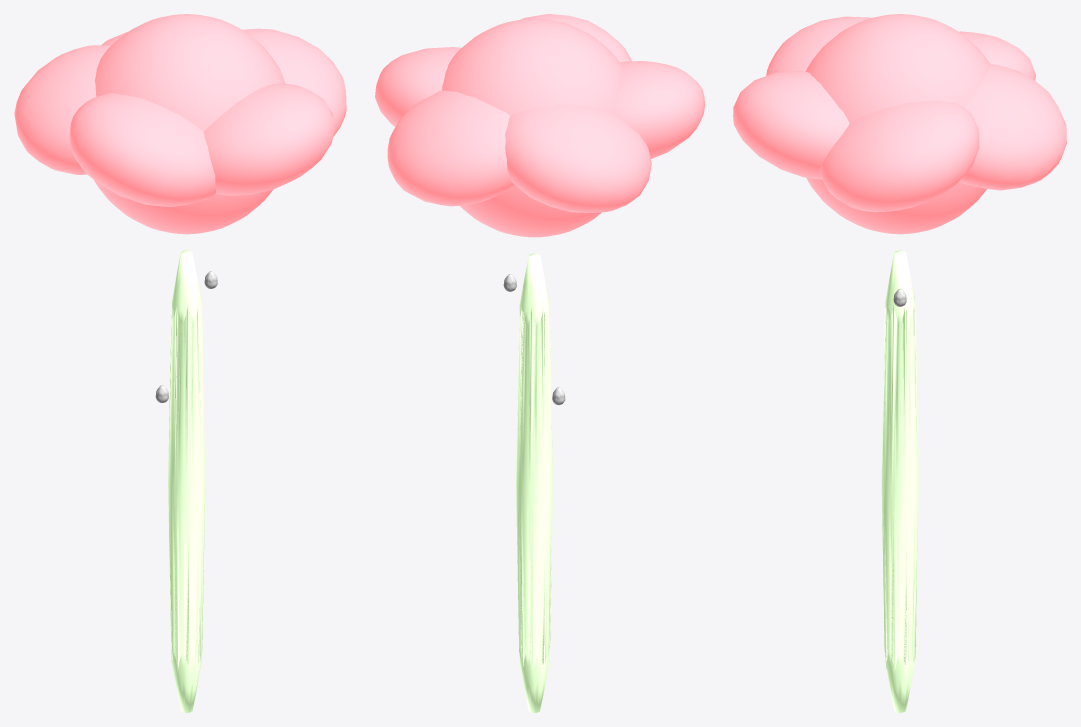
The model's file is plant_rose_r2_v3.glb.
The picture shows the model from 3 angles, left to right: view 1: azimuth 30°, elevation 25°; view 2: azimuth 150°, elevation 25°; view 3: azimuth 270°, elevation 25°; orthographic projection.
Visible parts, largest first — view 1: c, st.001, pt_3.001, pt_4.001, pt_2.001, pt_0.001; view 2: c, st.001, pt_2.001, pt_1.001, pt_3.001, pt_0.001, pt_4.001; view 3: c, st.001, pt_0.001, pt_1.001, pt_4.001, pt_3.001, pt_2.001.
Boxes of the visible parts, <box> form: c: <box>94,14,285,234</box>; st.001: <box>168,250,205,712</box>; pt_3.001: <box>69,93,215,206</box>; pt_4.001: <box>203,83,335,195</box>; pt_2.001: <box>14,45,111,174</box>; pt_0.001: <box>242,28,346,136</box>; c: <box>442,18,621,237</box>; st.001: <box>516,253,552,712</box>; pt_2.001: <box>505,105,651,212</box>; pt_1.001: <box>387,90,515,206</box>; pt_3.001: <box>612,61,704,158</box>; pt_0.001: <box>375,47,461,126</box>; pt_4.001: <box>521,14,631,62</box>; c: <box>805,14,989,234</box>; st.001: <box>881,250,918,712</box>; pt_0.001: <box>820,100,979,212</box>; pt_1.001: <box>959,63,1066,190</box>; pt_4.001: <box>733,70,849,179</box>; pt_3.001: <box>766,16,870,75</box>; pt_2.001: <box>959,31,1035,80</box>.
Size of the model in its own units: 0.2911 by 0.6726 by 0.2961.
